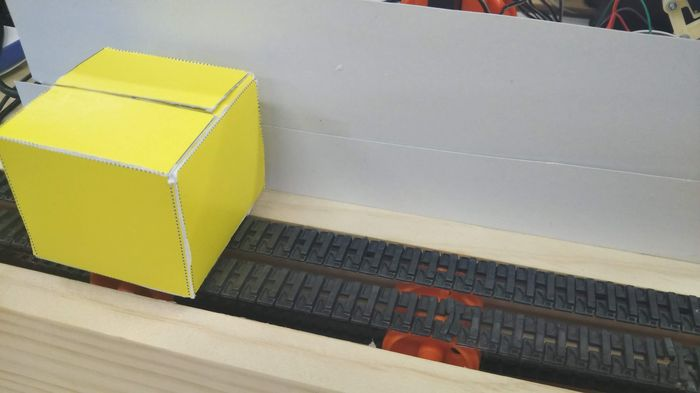box4: (4, 44, 266, 300)
